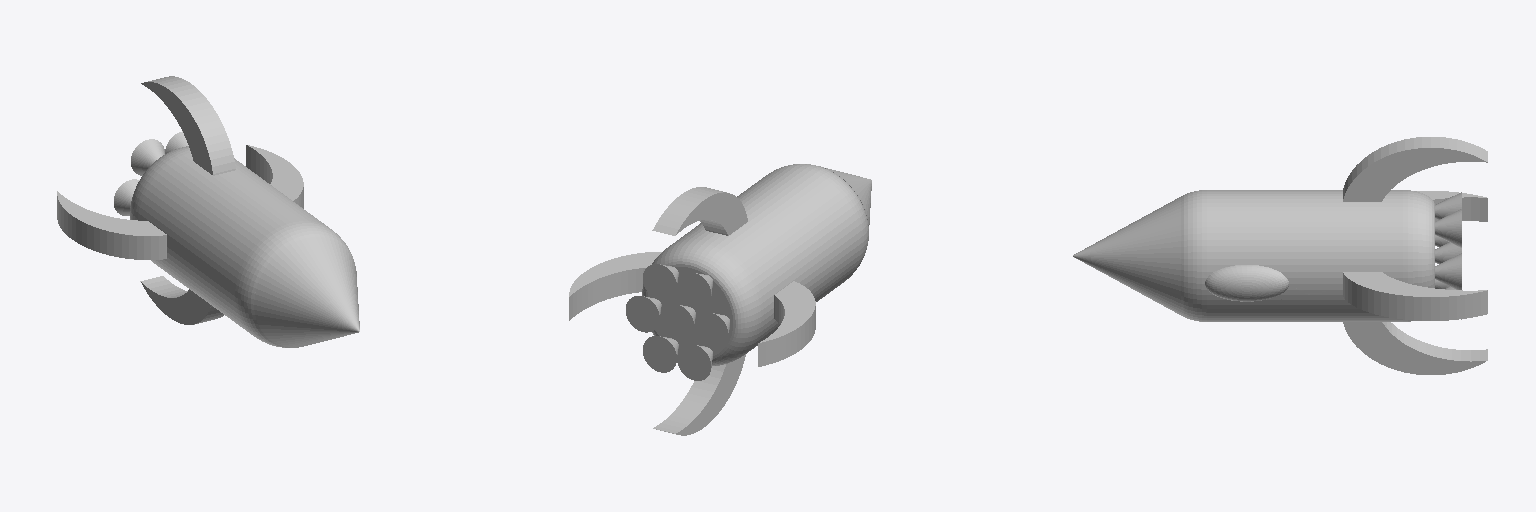
Rendered from tinker(1).obj.
3 views of the same model, side by side, from view 1: azimuth 30°, elevation 25°; view 2: azimuth 150°, elevation 25°; view 3: azimuth 270°, elevation 25° (orthographic).
Visible parts, largest first — view 1: obj_0; view 2: obj_0; view 3: obj_0.
Part boxes in pixels (x1,y1,x2,y2): obj_0: (57, 76, 359, 347); obj_0: (569, 164, 871, 435); obj_0: (1073, 137, 1487, 374).
Size of the model in its own units: 38 by 38 by 63.